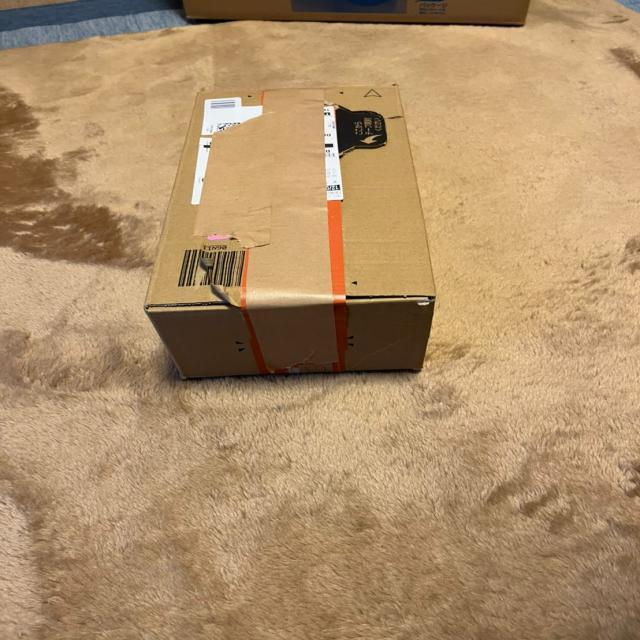box: (138, 75, 453, 388)
